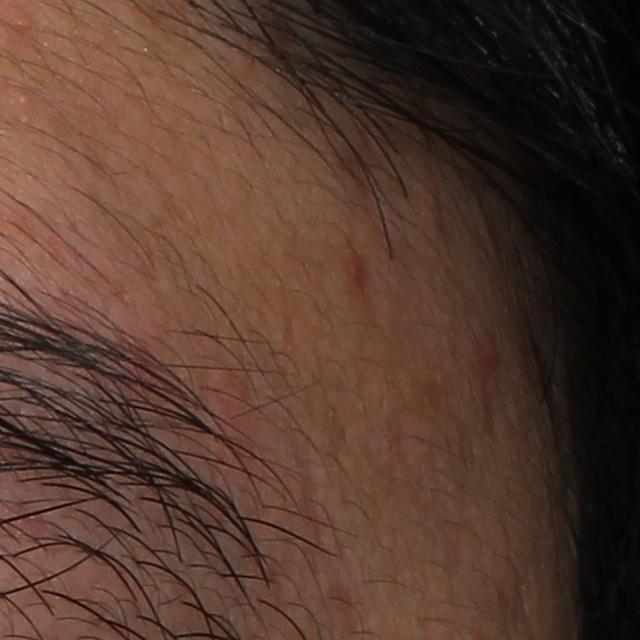comedo: (12, 86, 34, 110)
papule: (338, 243, 372, 286)
